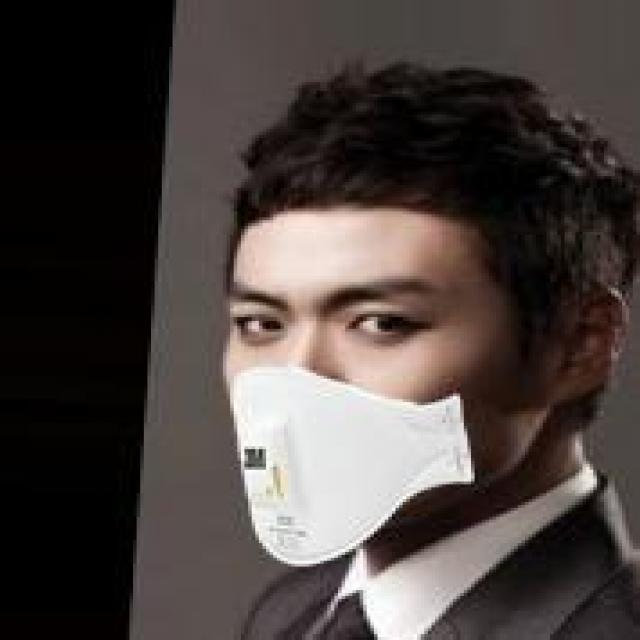mask: (202, 88, 630, 575)
